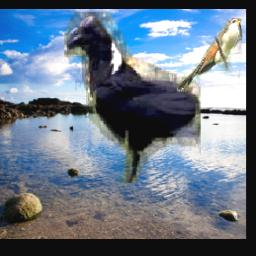Crow: (64, 13, 201, 184)
Cuckoo: (177, 18, 242, 92)
